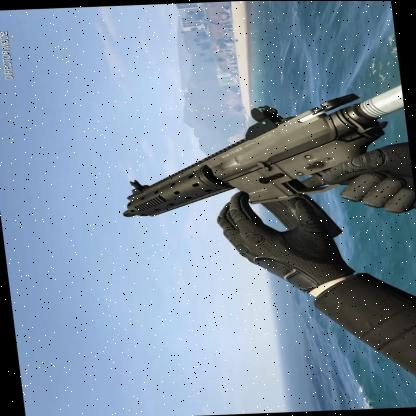rifle: (90, 73, 416, 240)
